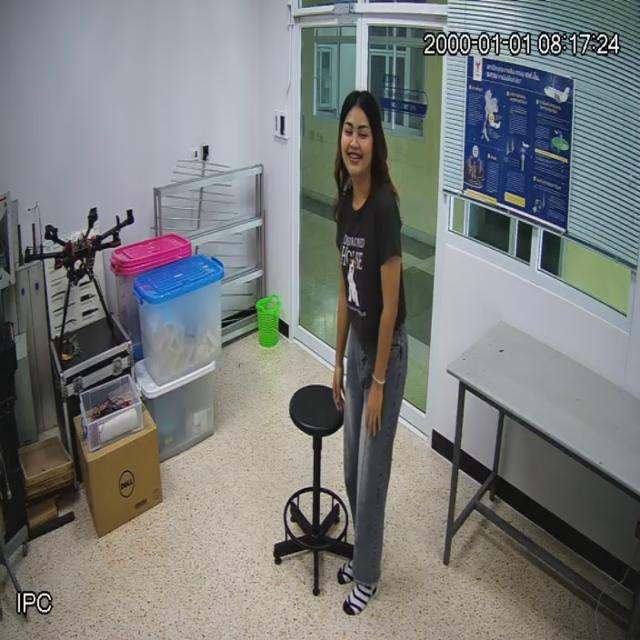normal: (332, 91, 411, 614)
